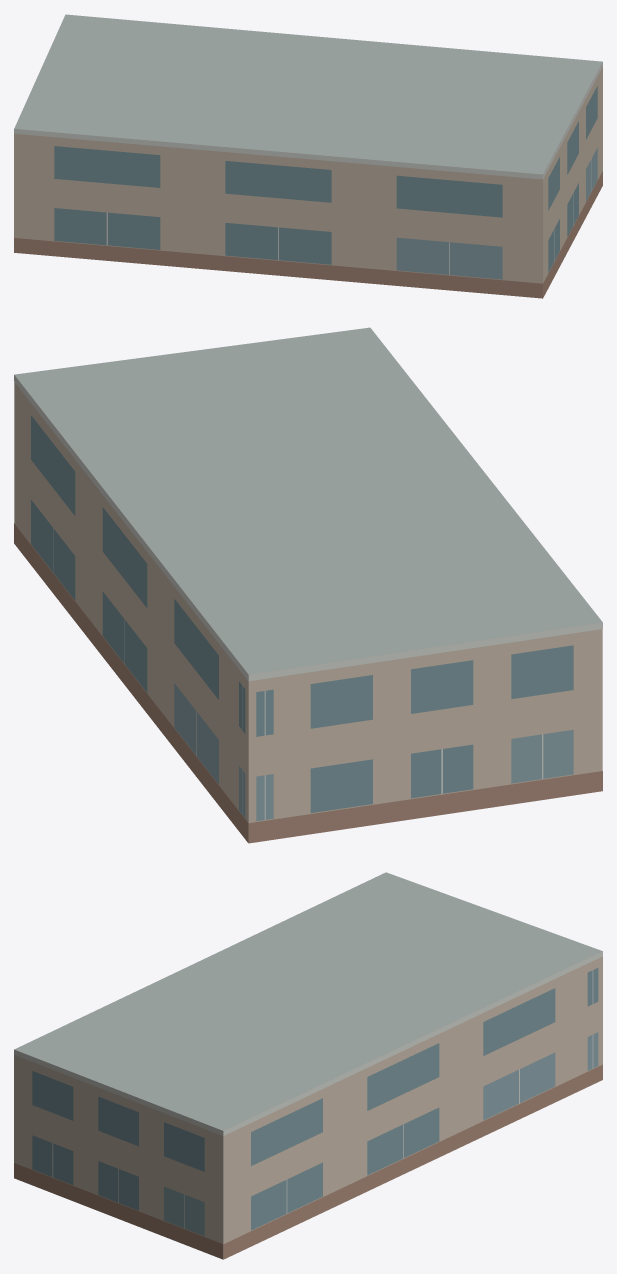
Rendered from survey-upis-32960763.glb.
3 views of the same model, one above another, from view 1: azimuth 30°, elevation 25°; view 2: azimuth 150°, elevation 25°; view 3: azimuth 270°, elevation 25° (orthographic). The views are drawn at different scales.
Parts seen in each view (by area): view 1: survey-upis-32960763.tmp; view 2: survey-upis-32960763.tmp; view 3: survey-upis-32960763.tmp.
Part boxes in pixels (x1,y1,x2,y2): survey-upis-32960763.tmp: (14,14,602,298); survey-upis-32960763.tmp: (14,327,602,843); survey-upis-32960763.tmp: (14,872,602,1259).
Bounding box in the file's own units: 26.3 × 6.1 × 25.29.
